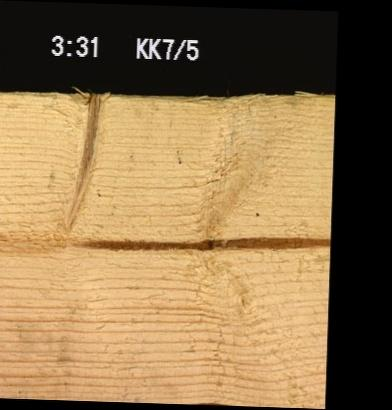small_knot: (247, 201, 269, 220)
